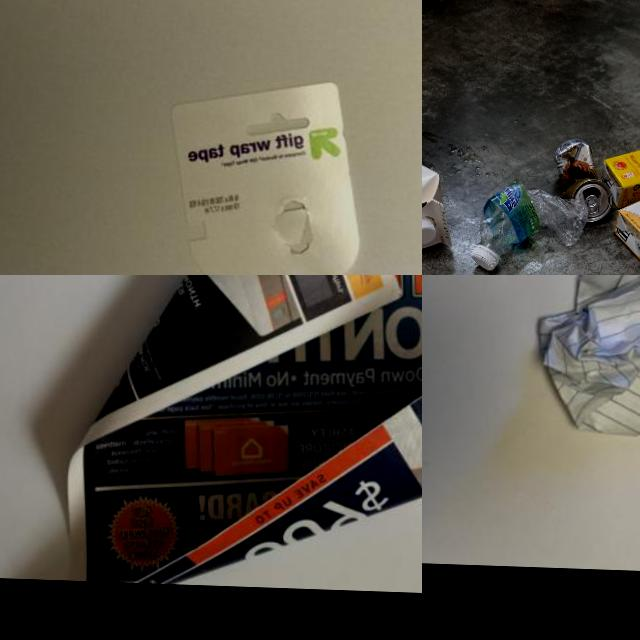aba de lata: (584, 195, 599, 214)
caixinha: (601, 132, 640, 212), (612, 169, 640, 263)
garrafa plástica: (479, 182, 589, 258)
lata: (551, 136, 614, 220)
papel: (61, 275, 422, 598), (162, 75, 362, 275), (531, 275, 640, 436)
tampa plástica: (470, 247, 499, 271), (422, 218, 436, 245)
